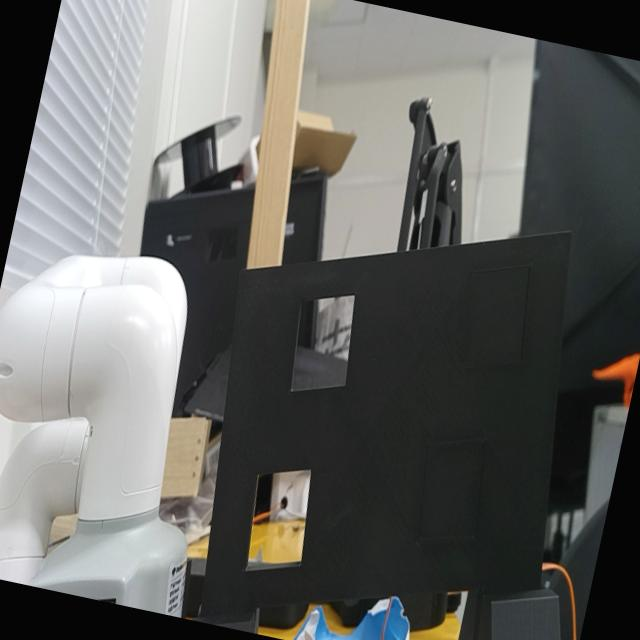Obstacle: (246, 470, 310, 570), (290, 296, 354, 390)
Wall: (202, 232, 570, 614)
